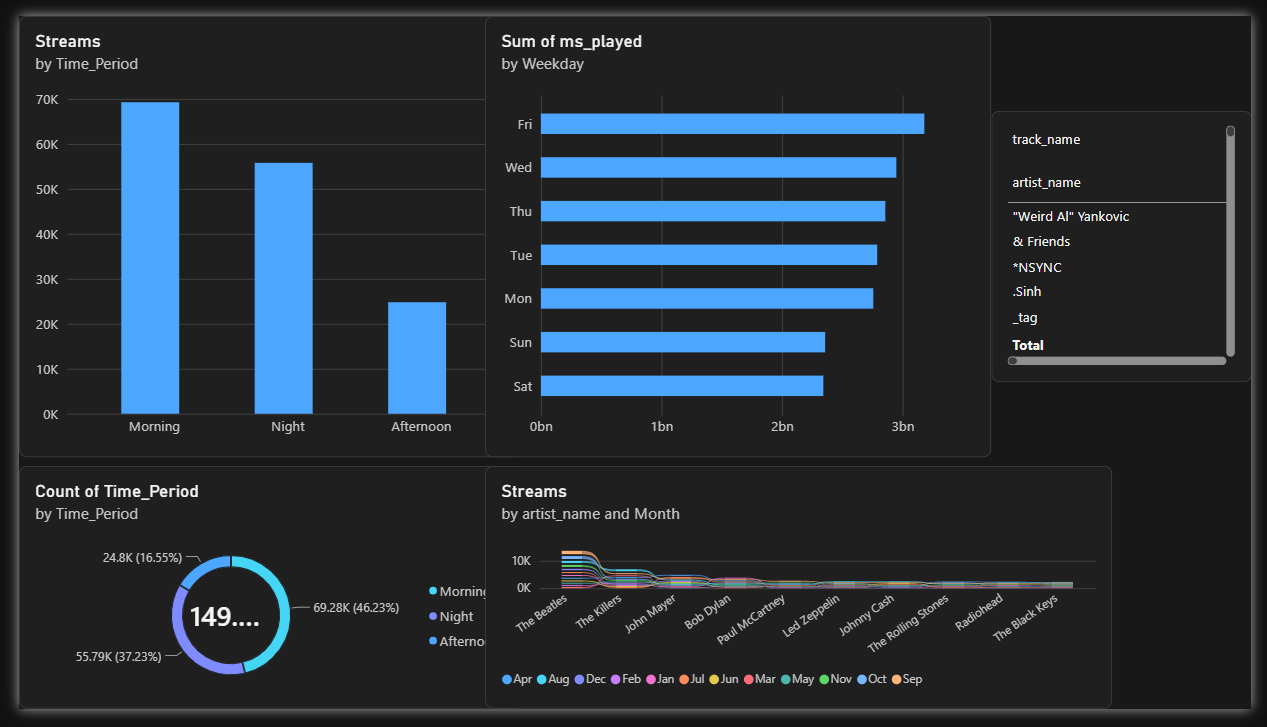

The page's visual inventory and layout, read from the dashboard file:
{"tool":"powerbi","page":{"name":"Page 3","canvas":[1280,720],"ordinal":2},"visuals":[{"type":"clusteredColumnChart","fields":{"Category":["spotify_history.Time_Period"],"Y":["spotify_history.Streams"]},"box":[0,0,525.5,458.4],"z":0},{"type":"donutChart","fields":{"Category":["spotify_history.Time_Period"],"Y":["CountNonNull(spotify_history.Time_Period)"]},"box":[0,468,526,252],"z":1000},{"type":"barChart","fields":{"Category":["spotify_history.Weekday"],"Y":["Sum(spotify_history.ms_played)"]},"box":[484.5,0,525.5,458.7],"z":2000},{"type":"ribbonChart","fields":{"Category":["spotify_history.artist_name"],"Series":["spotify_history.Month"],"Y":["spotify_history.Streams"]},"box":[484.5,467.8,651.5,252.1],"z":3000},{"type":"pivotTable","fields":{"Columns":["spotify_history.track_name"],"Rows":["spotify_history.artist_name"],"Values":["spotify_history.Total_Streams","Sum(spotify_history.Listening_Hours)"]},"box":[1010,98.8,270.3,281.3],"z":4000}]}

Visuals, with their boxes in screenshot pixels (x1, y1, x2, y2), scaled from the page's 1280x720 canvas onto the 1267x727 screenshot:
clusteredColumnChart - spotify_history.Time_Period x spotify_history.Streams: <box>0,0,520,463</box>
donutChart - spotify_history.Time_Period x CountNonNull(spotify_history.Time_Period): <box>0,473,521,726</box>
barChart - spotify_history.Weekday x Sum(spotify_history.ms_played): <box>480,0,1000,463</box>
ribbonChart - spotify_history.artist_name x spotify_history.Month: <box>480,472,1124,726</box>
pivotTable - spotify_history.track_name x spotify_history.artist_name: <box>1000,100,1266,384</box>
